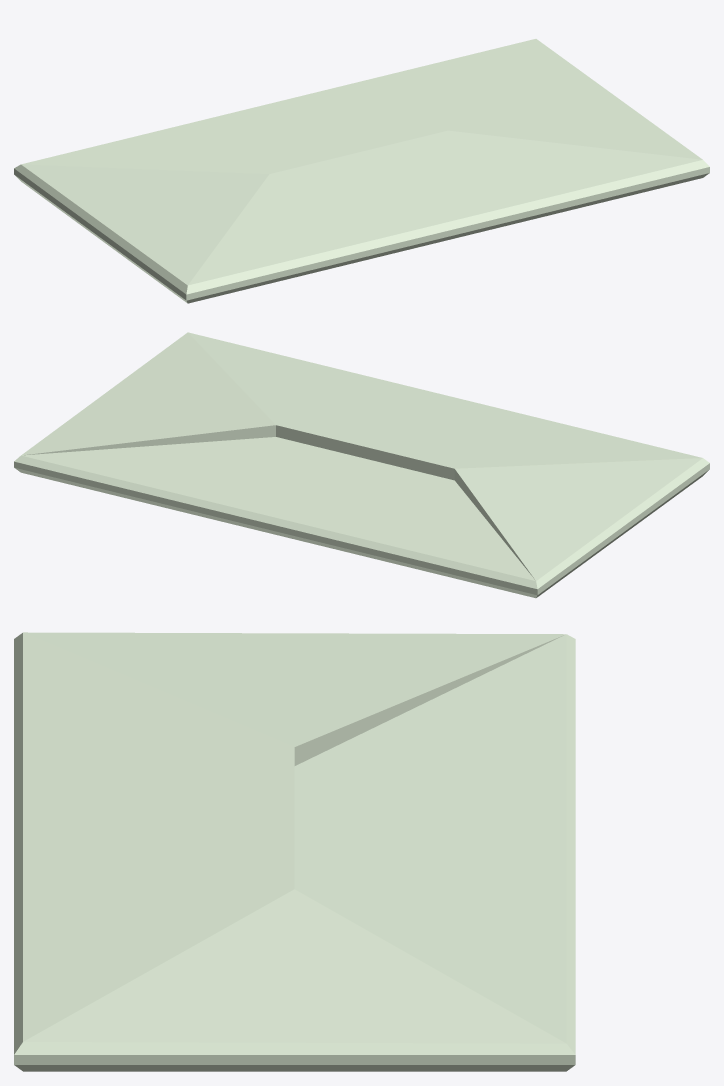
Rendered from envelope_letter.fbx.
3 views of the same model, one above another, from view 1: azimuth 30°, elevation 25°; view 2: azimuth 150°, elevation 25°; view 3: azimuth 270°, elevation 25° (orthographic). The views are drawn at different scales.
Parts seen in each view (by area): view 1: Envelope; view 2: Envelope; view 3: Envelope.
Part boxes in pixels (box(x1,y1,x2,y2)): Envelope: box(14, 39, 709, 303); Envelope: box(14, 332, 709, 598); Envelope: box(14, 632, 575, 1071).
Bounding box in the file's own units: 13.61 × 0.7009 × 9.62.
